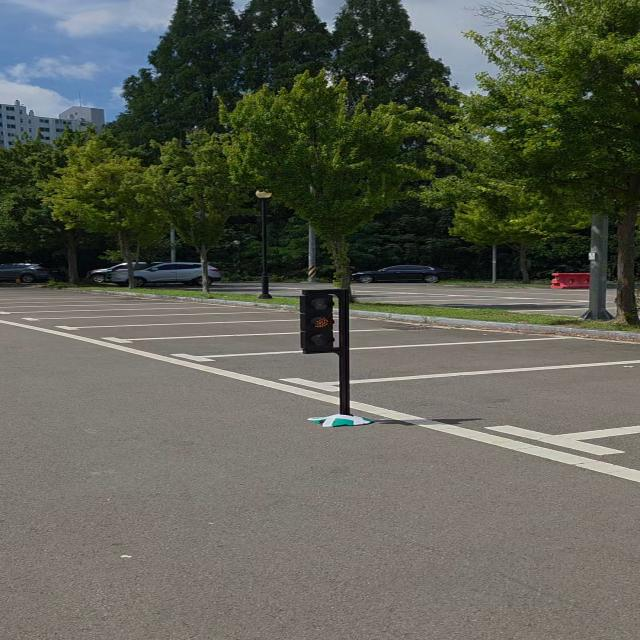yellow: (290, 289, 352, 353)
